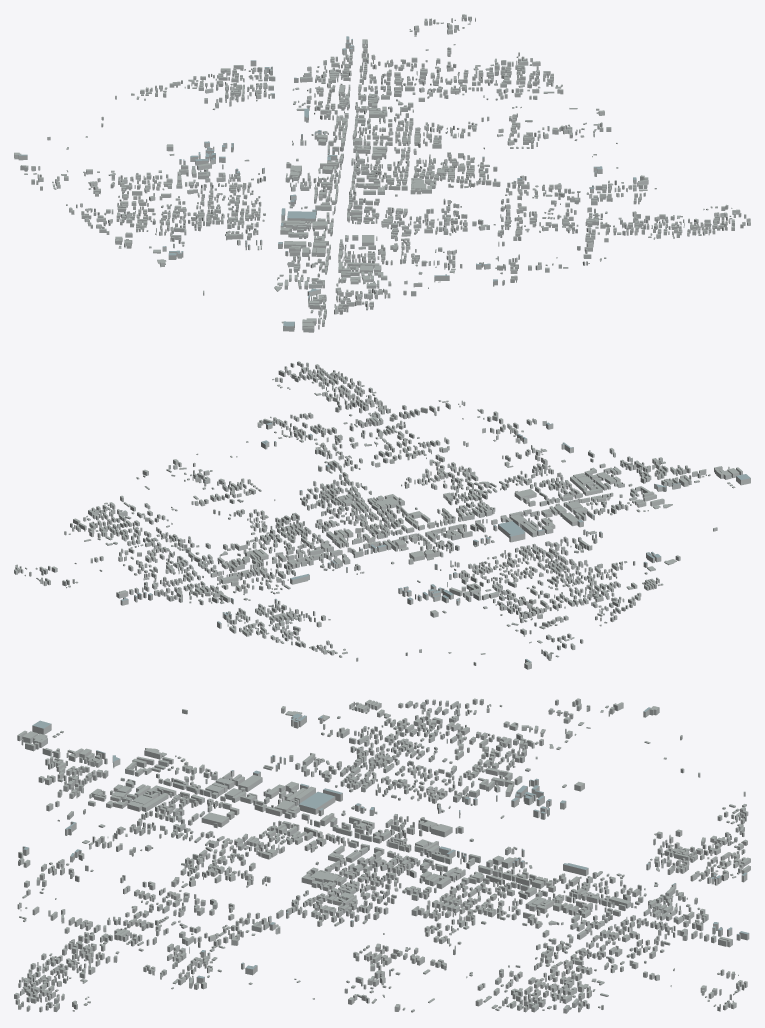
File: far.glb
The picture shows the model from 3 angles, top to bottom: view 1: azimuth 30°, elevation 25°; view 2: azimuth 150°, elevation 25°; view 3: azimuth 270°, elevation 25°; orthographic projection. The views are drawn at different scales.
Bounding box in the file's own units: 2100 × 23.4 × 2104.
